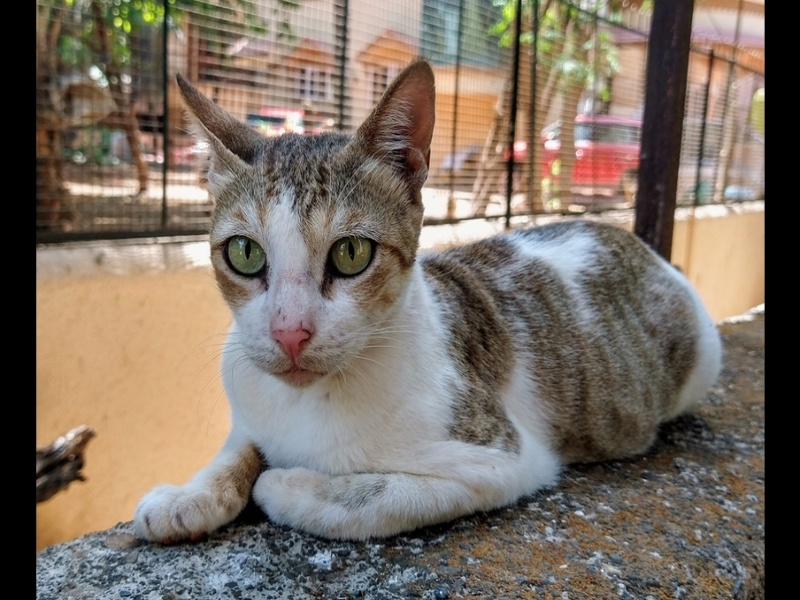cat: (128, 52, 728, 549)
